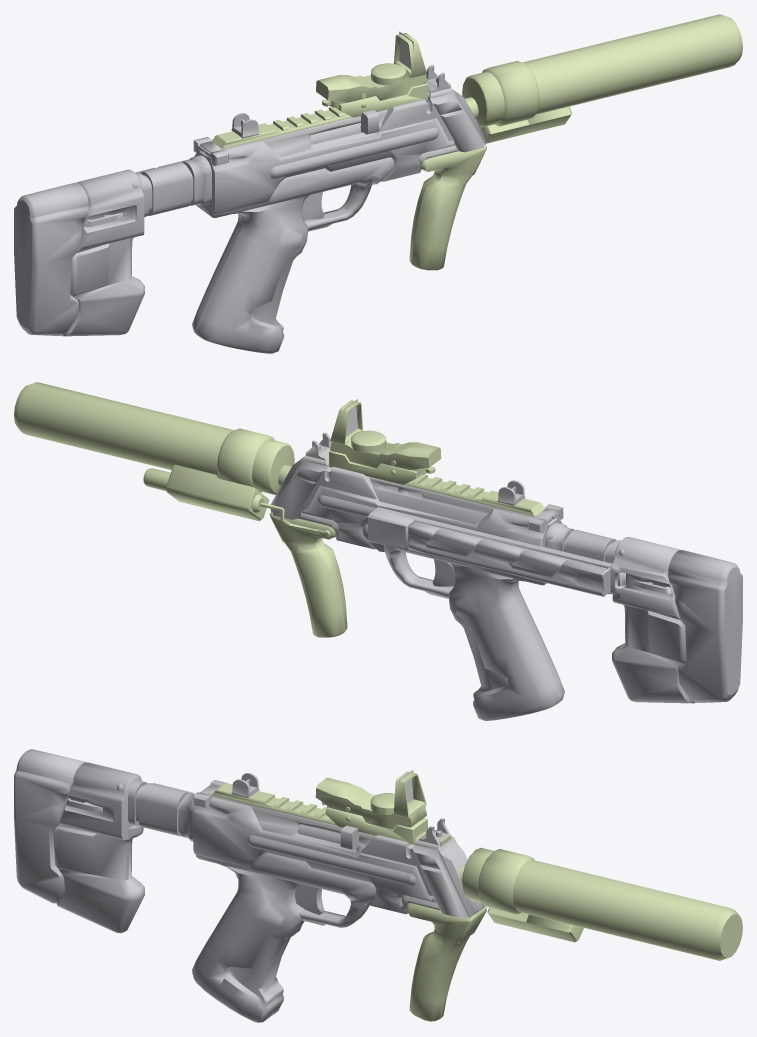
File: M7S_3rdP.fbx
3 renders of one model, top to bottom at view 1: azimuth 30°, elevation 25°; view 2: azimuth 150°, elevation 25°; view 3: azimuth 330°, elevation 25°, orthographic.
Visible parts, largest first — view 1: Main Body; view 2: Main Body, Magazine2, Magazine1; view 3: Main Body.
Part boxes in pixels (x1,y1,x2,y2): Main Body: (14,14,742,353); Main Body: (14,382,742,720); Magazine2: (408,521,610,596); Magazine1: (408,521,608,572); Main Body: (14,749,742,1022).
Bounding box in the file's own units: 83.76 × 31.33 × 7.4.
